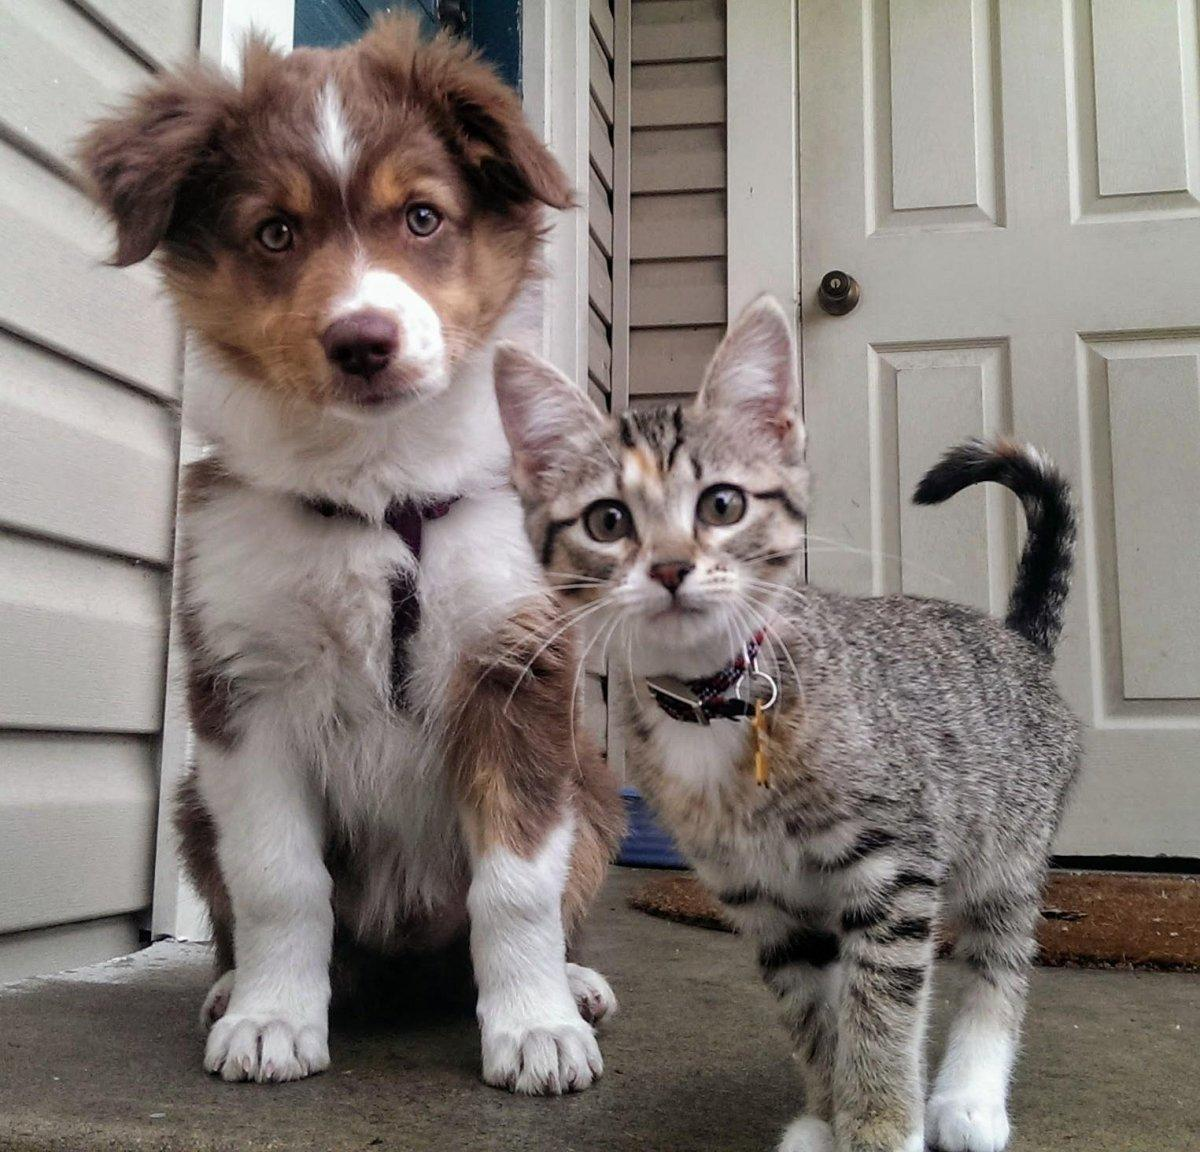animals: (487, 333, 1140, 1152), (72, 30, 603, 421)
